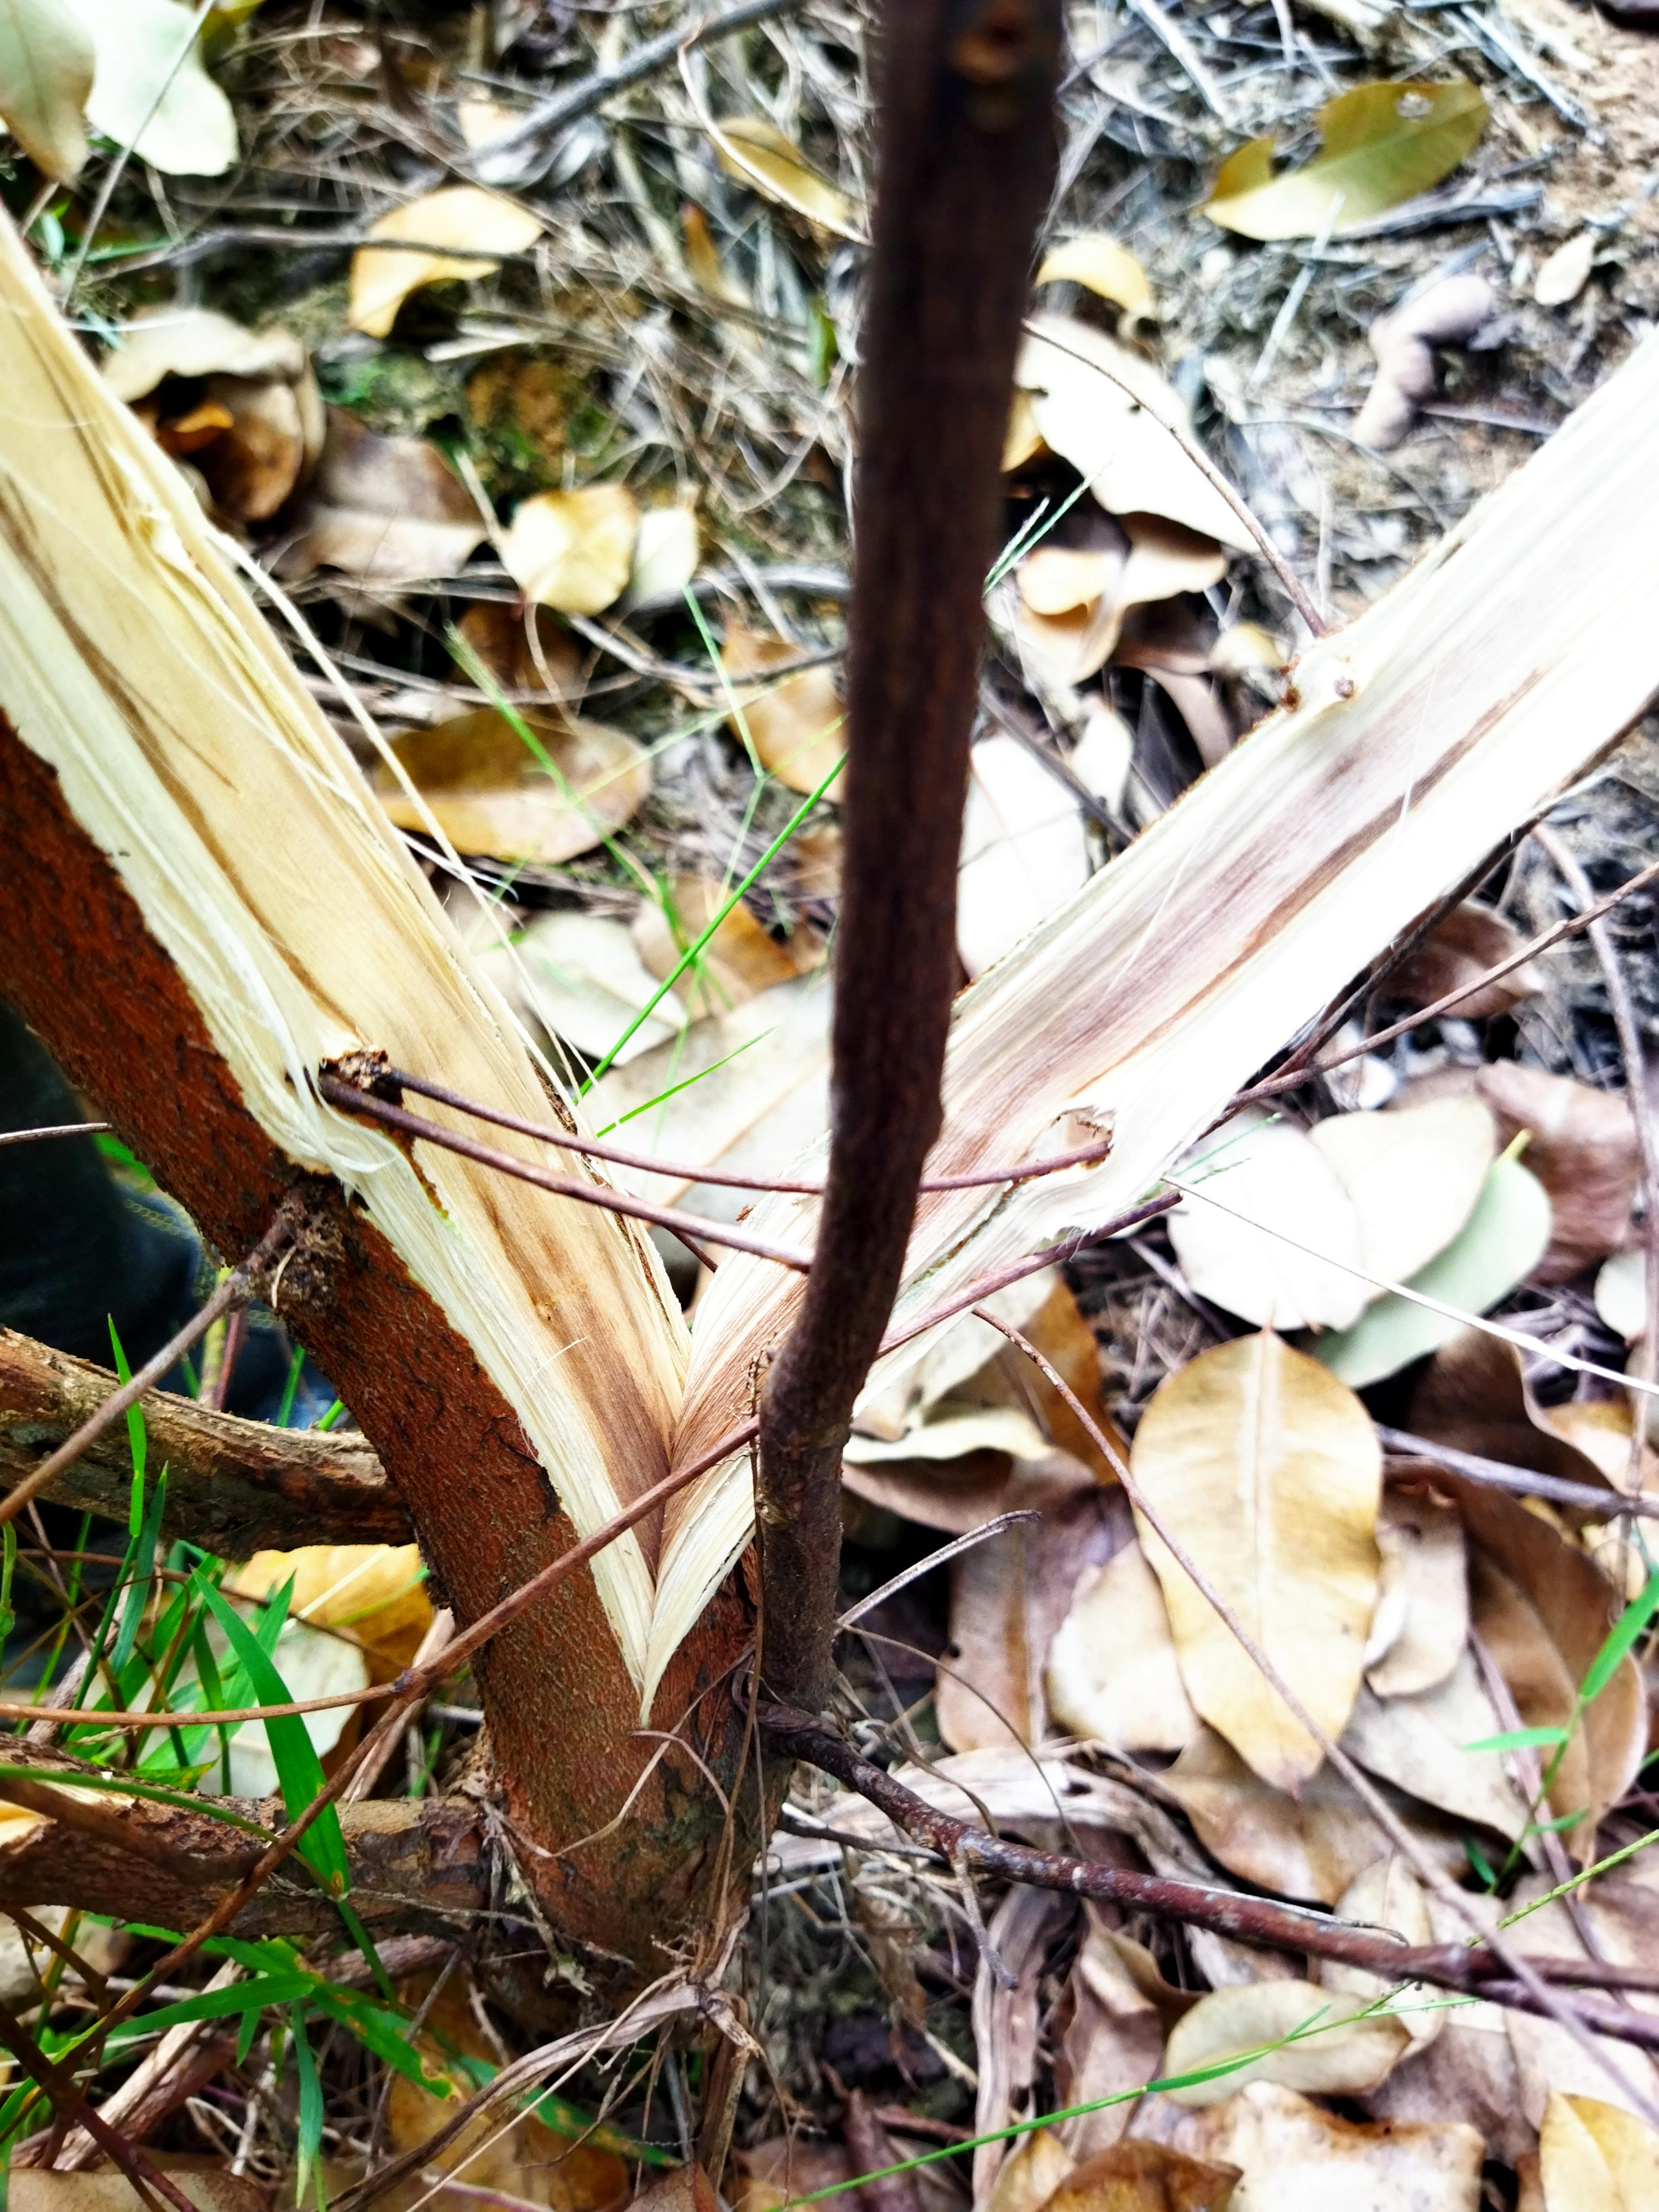Ralstonia: (376, 1029, 695, 1531)
